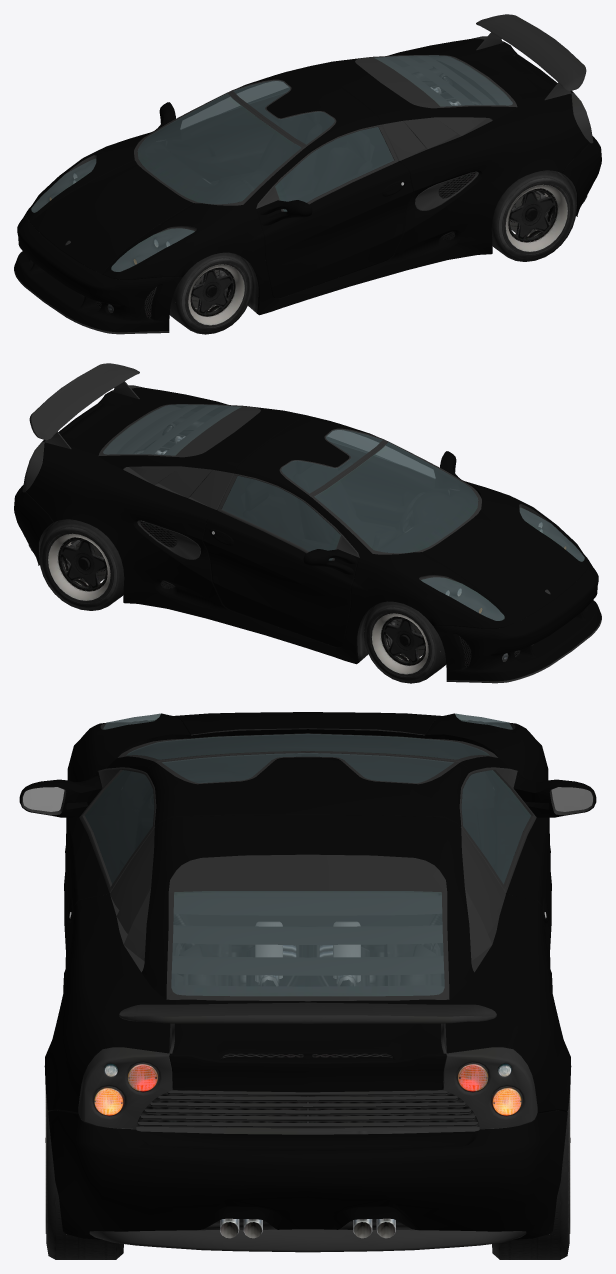
The model's file is supercar.glb.
3 renders of one model, top to bottom at view 1: azimuth 30°, elevation 25°; view 2: azimuth 150°, elevation 25°; view 3: azimuth 270°, elevation 25°, orthographic. The views are drawn at different scales.
Visible parts, largest first — view 1: Body_prototipos95_bodycolour_0, Windshield_UCB_GLASS_CLEAN_0, Door_FL_prototipos95_bodycolour_0, Hood_prototipos95_bodycolour_0, Bumper_Front_prototipos95_bodycolour_0, Body_inner_UCB_BOTTOM_0, Wheel_RL_RIMSPORT_03_2_0, Doorcard_FR_GENSPORT_INTERIOR_0, Interior_GENSPORT_INTERIOR_0, Wheel_FL_RIMSPORT_03_2_0, Door_Glass_FL_UCB_GLASS_CLEAN_0, Trunkdoor_glass_UCB_GLASS_CLEAN_0 (+15 smaller); view 2: Body_prototipos95_bodycolour_0, Windshield_UCB_GLASS_CLEAN_0, Door_FR_prototipos95_bodycolour_0, Hood_prototipos95_bodycolour_0, Bumper_Front_prototipos95_bodycolour_0, Body_inner_UCB_BOTTOM_0, Wheel_RR_RIMSPORT_03_2_0, Interior_GENSPORT_INTERIOR_0, Wheel_FR_RIMSPORT_03_2_0, Doorcard_FL_GENSPORT_INTERIOR_0, Door_Glass_FR_UCB_GLASS_CLEAN_0, Trunkdoor_glass_UCB_GLASS_CLEAN_0 (+15 smaller); view 3: Body_prototipos95_bodycolour_0, Bumper_Rear_prototipos95_bodycolour_0, Body_inner_UCB_BOTTOM_0, Trunkdoor_glass_UCB_GLASS_CLEAN_0, Trunkdoor_UCB_BOTTOM_0, Interior_GENSPORT_INTERIOR_0, Windshield_UCB_GLASS_CLEAN_0, Bumper_Rear_inner_UCB_BOTTOM_0, Spoiler_UCB_BOTTOM_0, Engine_UCB_BOTTOM_0, Door_Glass_FL_UCB_GLASS_CLEAN_0, Door_Glass_FR_UCB_GLASS_CLEAN_0 (+20 smaller).
Boxes of the visible parts, x1,y1,x2,y2 form: Body_prototipos95_bodycolour_0: (26, 38, 589, 315); Windshield_UCB_GLASS_CLEAN_0: (137, 80, 334, 204); Door_FL_prototipos95_bodycolour_0: (256, 161, 413, 298); Hood_prototipos95_bodycolour_0: (30, 160, 192, 274); Bumper_Front_prototipos95_bodycolour_0: (14, 211, 182, 332); Body_inner_UCB_BOTTOM_0: (31, 55, 576, 313); Wheel_RL_RIMSPORT_03_2_0: (491, 170, 576, 261); Doorcard_FR_GENSPORT_INTERIOR_0: (155, 93, 284, 181); Interior_GENSPORT_INTERIOR_0: (137, 82, 393, 204); Wheel_FL_RIMSPORT_03_2_0: (169, 252, 252, 334); Door_Glass_FL_UCB_GLASS_CLEAN_0: (275, 127, 393, 211); Trunkdoor_glass_UCB_GLASS_CLEAN_0: (374, 55, 512, 106); Body_prototipos95_bodycolour_0: (26, 387, 589, 664); Windshield_UCB_GLASS_CLEAN_0: (281, 429, 478, 553); Door_FR_prototipos95_bodycolour_0: (202, 510, 359, 647); Hood_prototipos95_bodycolour_0: (423, 509, 585, 623); Bumper_Front_prototipos95_bodycolour_0: (433, 560, 601, 681); Body_inner_UCB_BOTTOM_0: (39, 404, 584, 662); Wheel_RR_RIMSPORT_03_2_0: (39, 519, 124, 610); Interior_GENSPORT_INTERIOR_0: (222, 431, 478, 553); Wheel_FR_RIMSPORT_03_2_0: (364, 601, 446, 683); Doorcard_FL_GENSPORT_INTERIOR_0: (331, 442, 460, 529); Door_Glass_FR_UCB_GLASS_CLEAN_0: (222, 476, 340, 560); Trunkdoor_glass_UCB_GLASS_CLEAN_0: (103, 404, 241, 455); Body_prototipos95_bodycolour_0: (44, 713, 571, 1142); Bumper_Rear_prototipos95_bodycolour_0: (48, 1110, 567, 1239); Body_inner_UCB_BOTTOM_0: (110, 728, 505, 1129); Trunkdoor_glass_UCB_GLASS_CLEAN_0: (171, 891, 444, 996); Trunkdoor_UCB_BOTTOM_0: (166, 854, 449, 1001); Interior_GENSPORT_INTERIOR_0: (121, 735, 494, 1059); Windshield_UCB_GLASS_CLEAN_0: (126, 733, 489, 783); Bumper_Rear_inner_UCB_BOTTOM_0: (89, 1126, 526, 1252); Spoiler_UCB_BOTTOM_0: (119, 1002, 496, 1053); Engine_UCB_BOTTOM_0: (173, 914, 442, 986); Door_Glass_FL_UCB_GLASS_CLEAN_0: (85, 770, 154, 883); Door_Glass_FR_UCB_GLASS_CLEAN_0: (461, 770, 530, 883).
Size of the model in its own units: 178 by 51.64 by 85.81.
Materials: 7 (6 with a texture image).
